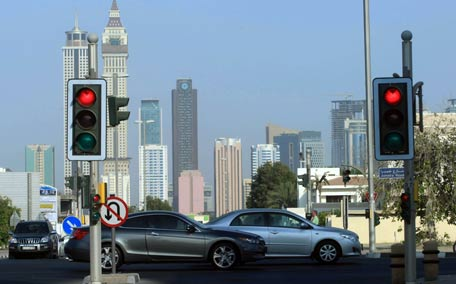stop: (373, 77, 413, 160), (67, 79, 107, 160)
